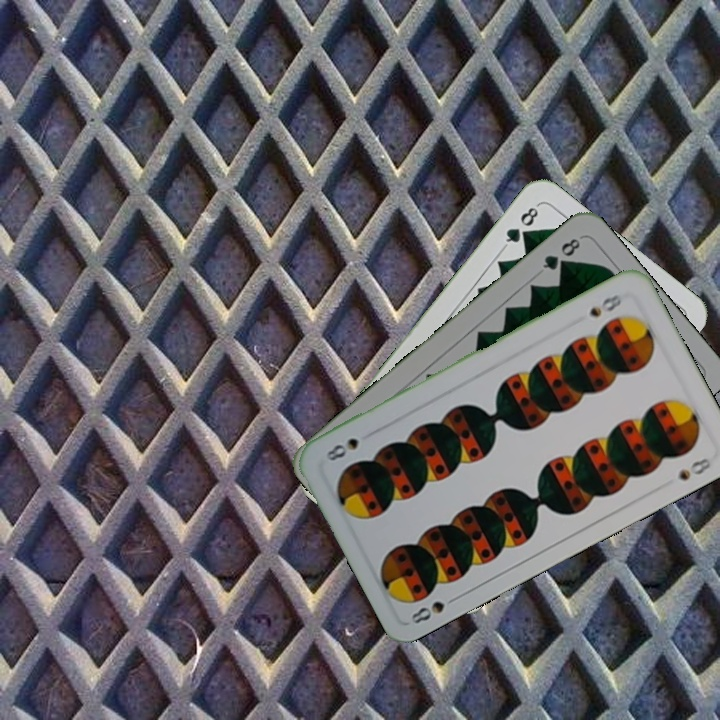G8: (500, 201, 542, 251), (538, 233, 585, 273)
S8: (407, 591, 462, 627), (585, 288, 628, 320)
